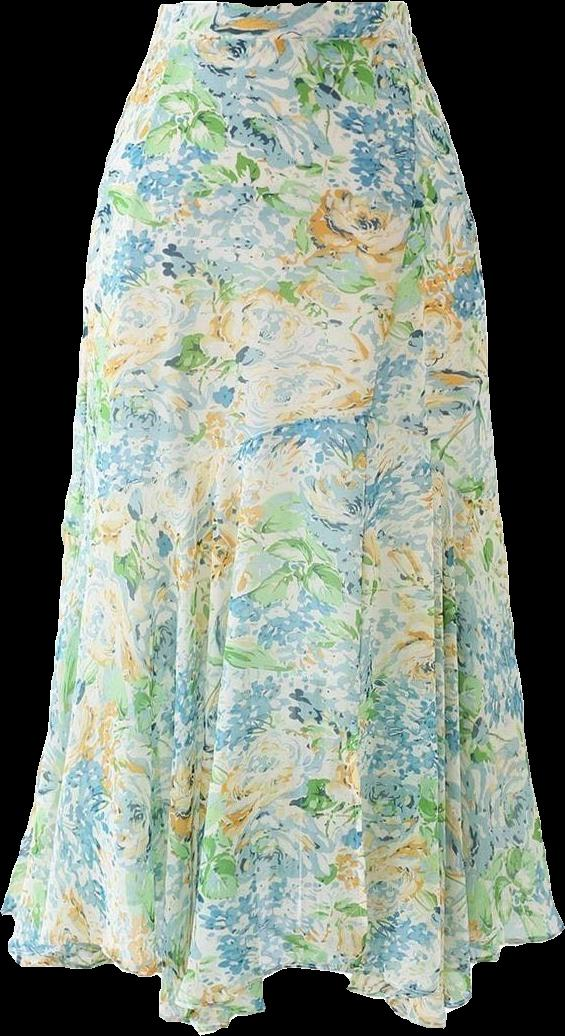Hemline: (0, 906, 564, 1034)
Waistline: (154, 0, 412, 18)
